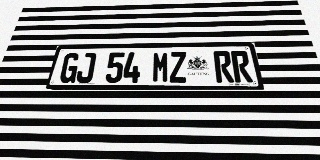4: (122, 52, 141, 83)
5: (105, 52, 125, 83)
G: (58, 53, 81, 83)
J: (75, 53, 97, 83)
M: (152, 52, 169, 83)
R: (230, 51, 253, 82), (213, 51, 234, 82)
Z: (170, 52, 187, 83)
